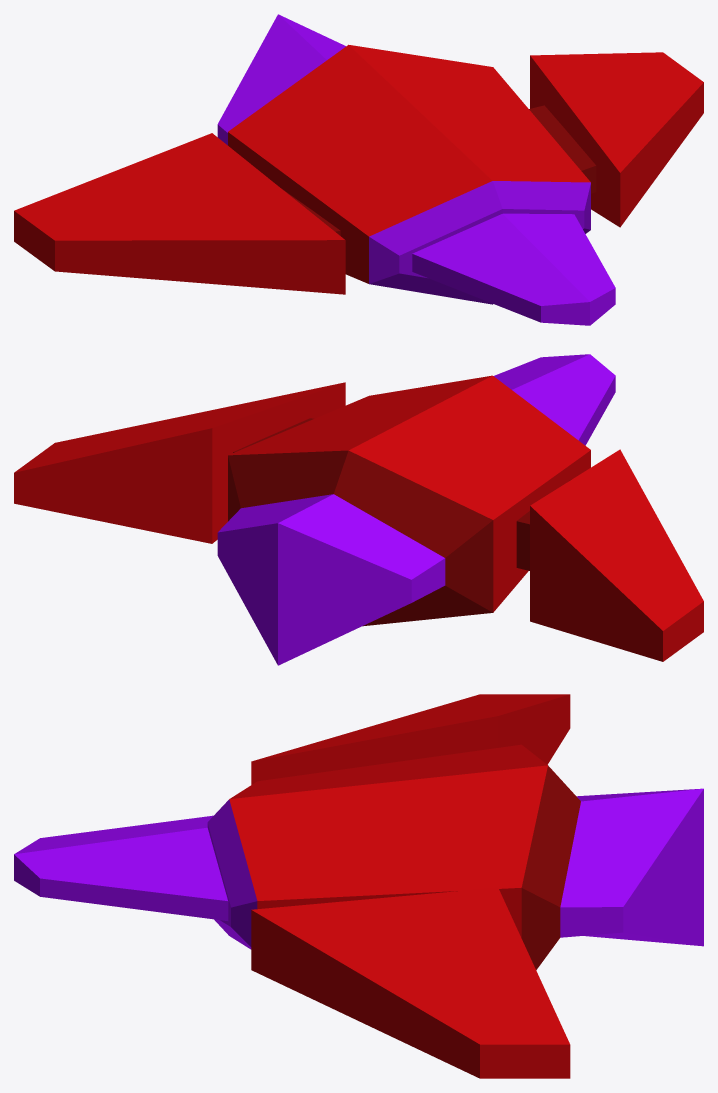
File: mesh_Enemyspaceship.fbx
3 views of the same model, one above another, from view 1: azimuth 30°, elevation 25°; view 2: azimuth 150°, elevation 25°; view 3: azimuth 270°, elevation 25° (orthographic). The views are drawn at different scales.
Parts seen in each view (by area): view 1: EnemySpaceship; view 2: EnemySpaceship; view 3: EnemySpaceship.
Boxes of the visible parts, box(x1,y1,x2,y2) form: EnemySpaceship: box(14, 14, 703, 325); EnemySpaceship: box(14, 354, 703, 665); EnemySpaceship: box(14, 694, 703, 1078).
Bounding box in the file's own units: 6.89 × 1.87 × 5.74.
